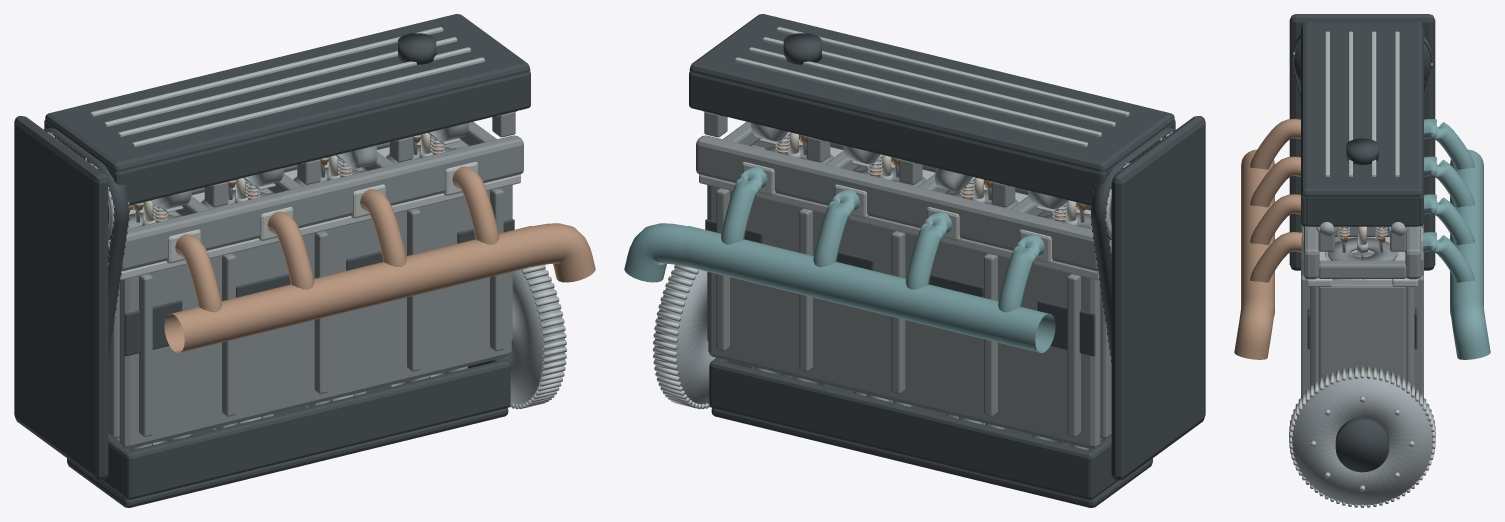
File: inline-four-engine.glb
3 renders of one model, left to right at view 1: azimuth 30°, elevation 25°; view 2: azimuth 150°, elevation 25°; view 3: azimuth 270°, elevation 25°, orthographic. The views are drawn at different scales.
Visible parts, largest first — view 1: block_front__engine_cast, cam_cover__engine_dark, timing_cover__engine_dark, exhaust_manifold__engine_exhaust, sump__engine_dark, head_front_shell__engine_cast, cam_cover__engine_edge, head__engine_cast, flywheel_spin__engine_steel, flywheel_spin__engine_edge, block_front__engine_dark, block_front__engine_edge (+3 smaller); view 2: block_rear__engine_cast, cam_cover__engine_dark, timing_cover__engine_dark, intake_manifold__engine_intake, sump__engine_dark, head__engine_cast, cam_cover__engine_edge, flywheel_spin__engine_steel, flywheel_spin__engine_edge, block_rear__engine_dark, block_rear__engine_edge, timing_belt__engine_dark (+4 smaller); view 3: cam_cover__engine_dark, flywheel_spin__engine_steel, exhaust_manifold__engine_exhaust, intake_manifold__engine_intake, block_front__engine_cast, block_rear__engine_cast, timing_cover__engine_dark, head__engine_cast, cam_cover__engine_edge, flywheel_spin__engine_edge, flywheel_spin__engine_dark, head_front_shell__engine_cast (+1 smaller).
Part boxes in pixels (x1,y1,x2,y2): block_front__engine_cast: (108,185,512,449); cam_cover__engine_dark: (44,14,530,205); timing_cover__engine_dark: (14,116,108,480); exhaust_manifold__engine_exhaust: (164,166,595,352); sump__engine_dark: (67,357,510,507); head_front_shell__engine_cast: (121,135,523,271); cam_cover__engine_edge: (90,27,484,146); head__engine_cast: (108,111,515,254); flywheel_spin__engine_steel: (504,267,565,404); flywheel_spin__engine_edge: (509,265,566,409); block_front__engine_dark: (124,219,514,356); block_front__engine_edge: (120,174,520,280); block_rear__engine_cast: (707,185,1111,449); cam_cover__engine_dark: (689,14,1175,205); timing_cover__engine_dark: (1111,116,1205,480); intake_manifold__engine_intake: (624,166,1055,352); sump__engine_dark: (709,357,1152,507); head__engine_cast: (696,111,1111,271); cam_cover__engine_edge: (735,27,1129,146); flywheel_spin__engine_steel: (654,267,715,404); flywheel_spin__engine_edge: (653,265,710,409); block_rear__engine_dark: (705,219,1095,356); block_rear__engine_edge: (699,174,1099,280); timing_belt__engine_dark: (1091,128,1175,358); cam_cover__engine_dark: (1301,22,1423,226); flywheel_spin__engine_steel: (1292,369,1432,505); exhaust_manifold__engine_exhaust: (1234,119,1302,359); intake_manifold__engine_intake: (1422,119,1490,359); block_front__engine_cast: (1301,223,1362,398); block_rear__engine_cast: (1362,223,1423,398); timing_cover__engine_dark: (1289,14,1435,270); head__engine_cast: (1318,226,1421,279); cam_cover__engine_edge: (1325,31,1399,176); flywheel_spin__engine_edge: (1289,366,1435,507); flywheel_spin__engine_dark: (1335,417,1389,472); head_front_shell__engine_cast: (1303,226,1362,279).
Size of the model in its own units: 0.524 by 0.395 by 0.2875.
